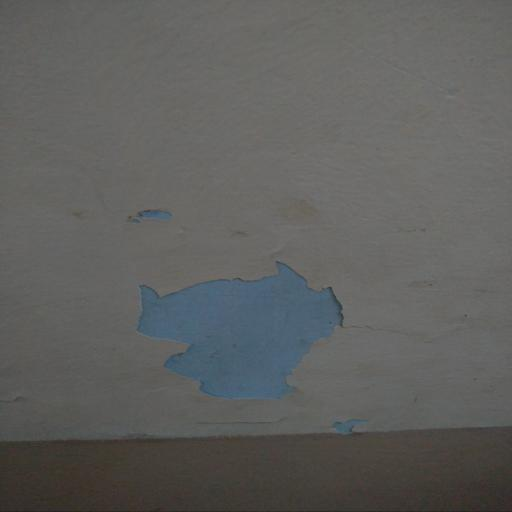peeling: (125, 255, 358, 396), (121, 185, 189, 236), (312, 409, 364, 442)
